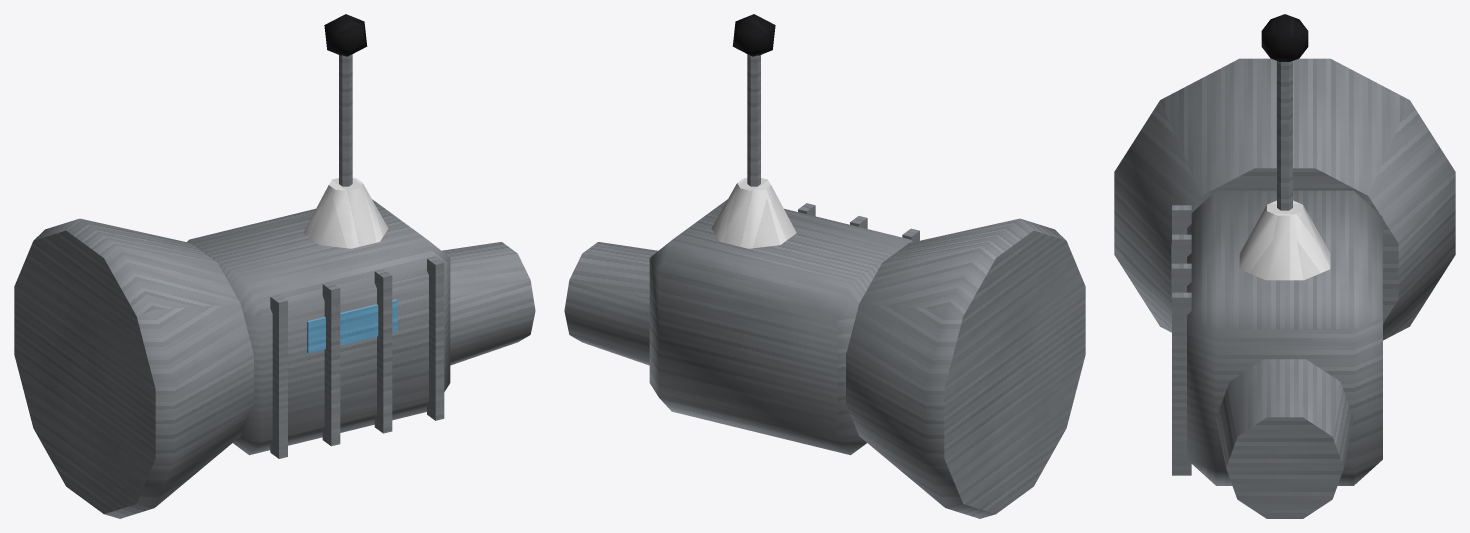
Rendered from cambio_n1.glb.
3 views of the same model, side by side, from view 1: azimuth 30°, elevation 25°; view 2: azimuth 150°, elevation 25°; view 3: azimuth 270°, elevation 25° (orthographic). The views are drawn at different scales.
Visible parts, largest first — view 1: cambio_n1; view 2: cambio_n1; view 3: cambio_n1.
Boxes of the visible parts, x1,y1,x2,y2 form: cambio_n1: (14,14,535,518); cambio_n1: (564,14,1085,518); cambio_n1: (1114,14,1455,518).
Size of the model in its own units: 0.57 by 0.5519 by 0.3477.
2 materials, 2 textured.
